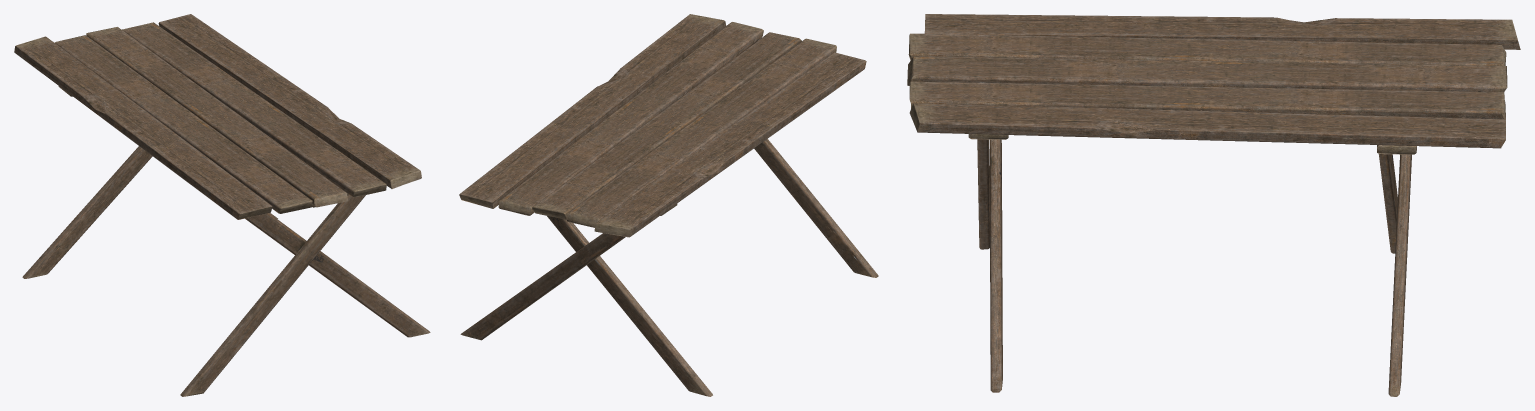
The model's file is SM_Table.fbx.
The picture shows the model from 3 angles, left to right: view 1: azimuth 30°, elevation 25°; view 2: azimuth 150°, elevation 25°; view 3: azimuth 270°, elevation 25°; orthographic projection. The views are drawn at different scales.
Parts seen in each view (by area): view 1: SM_Table_LOD0; view 2: SM_Table_LOD0; view 3: SM_Table_LOD0.
Part boxes in pixels (x1=…): SM_Table_LOD0: x1=14, y1=14, x2=430, y2=396; SM_Table_LOD0: x1=459, y1=14, x2=878, y2=396; SM_Table_LOD0: x1=907, y1=14, x2=1520, y2=396.
Size of the model in its own units: 129 by 210 by 94.01.
1 material, 1 textured.
